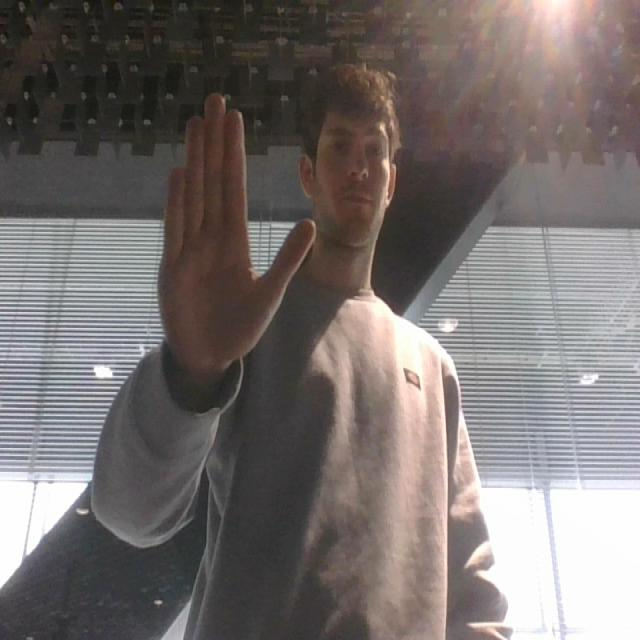backward: (154, 86, 319, 386)
